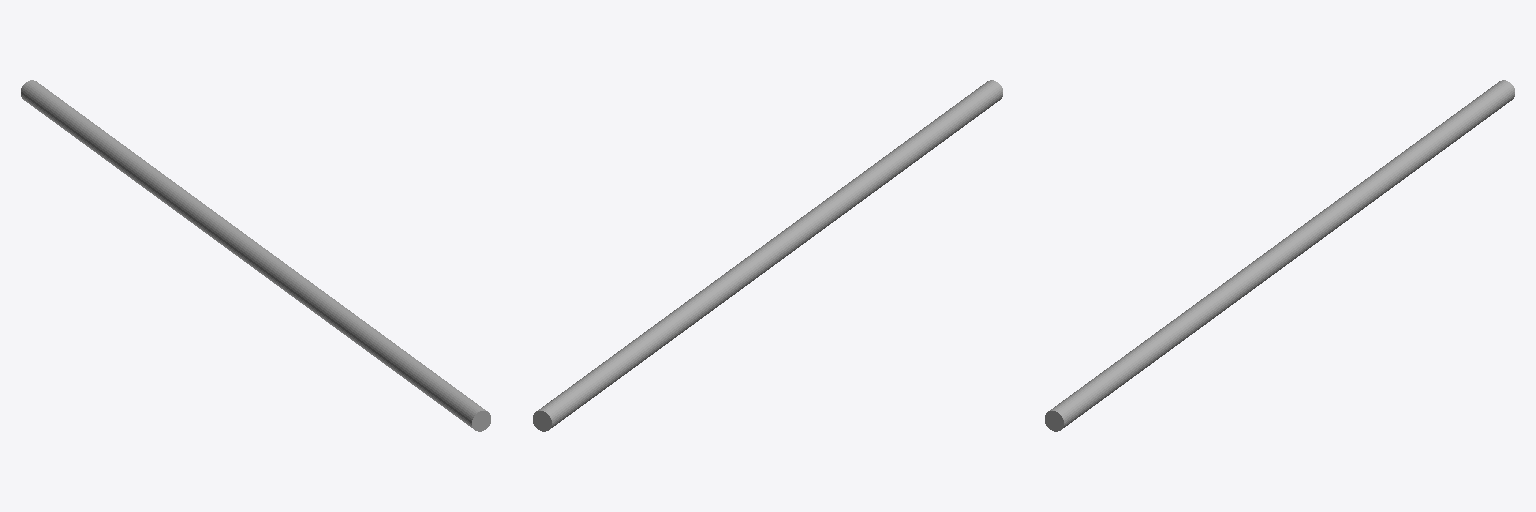
The robot description file, URDF, robot "panda":
<?xml version='1.0' encoding='utf-8'?>
<robot name="panda">

    <link name="link0">
      <inertial>
        <origin xyz="0 0 0.05" rpy="0 0 0" />
        <mass value="4" />
        <inertia ixx="0.4" iyy="0.4" izz="0.4" ixy="0" ixz="0" iyz="0" />
      </inertial>
      <visual>
        <geometry>
          <mesh filename="../../../Model/meshes/visual/link0.obj"/>
        </geometry>
      </visual>
<!--       <collision>
        <geometry>
          <mesh filename="../../../Model/meshes/collision/link0.obj"/>
        </geometry>
      </collision> -->
    </link>
    <link name="link1">
      <inertial>
        <origin xyz="0 0 -0.07" rpy="0 -0 0" />
        <mass value="3" />
        <inertia ixx="0.3" iyy="0.3" izz="0.3" ixy="0" ixz="0" iyz="0" />
      </inertial>
      <visual>
        <geometry>
          <mesh filename="../../../Model/meshes/visual/link1.obj"/>
        </geometry>
      </visual>
      <!-- <collision>
        <geometry>
          <mesh filename="../../../Model/meshes/collision/link1.obj"/>
        </geometry>
      </collision> -->
    </link>
    <link name="link2">
      <inertial>
        <origin xyz="0 -0.1 0" rpy="0 -0 0" />
        <mass value="3" />
        <inertia ixx="0.3" iyy="0.3" izz="0.3" ixy="0" ixz="0" iyz="0" />
      </inertial>
      <visual>
        <geometry>
          <mesh filename="../../../Model/meshes/visual/link2.obj"/>
        </geometry>
      </visual>
      <!-- <collision>
        <geometry>
          <mesh filename="../../../Model/meshes/collision/link2.obj"/>
        </geometry>
      </collision> -->
    </link>
    <link name="link3">
      <inertial>
        <origin xyz="0.04 0 -0.05" rpy="0 -0 0" />
        <mass value="2" />
        <inertia ixx="0.2" iyy="0.2" izz="0.2" ixy="0" ixz="0" iyz="0" />
      </inertial>
      <visual>
        <geometry>
          <mesh filename="../../../Model/meshes/visual/link3.obj"/>
        </geometry>
      </visual>
      <!-- <collision>
        <geometry>
          <mesh filename="../../../Model/meshes/collision/link3.obj"/>
        </geometry>
      </collision> -->
    </link>
    <link name="link4">
      <inertial>
        <origin xyz="-0.04 0.05 0" rpy="0 -0 0" />
        <mass value="2" />
        <inertia ixx="0.2" iyy="0.2" izz="0.2" ixy="0" ixz="0" iyz="0" />
      </inertial>
      <visual>
        <geometry>
          <mesh filename="../../../Model/meshes/visual/link4.obj"/>
        </geometry>
      </visual>
<!--       <collision>
        <geometry>
          <mesh filename="../../../Model/meshes/collision/link4.obj"/>
        </geometry>
      </collision> -->
    </link>
    <link name="link5">
      <inertial>
        <origin xyz="0 0 -0.15" rpy="0 -0 0" />
        <mass value="2" />
        <inertia ixx="0.2" iyy="0.2" izz="0.2" ixy="0" ixz="0" iyz="0" />
      </inertial>
      <visual>
        <geometry>
          <mesh filename="../../../Model/meshes/visual/link5.obj"/>
        </geometry>
      </visual>
<!--       <collision>
        <geometry>
          <mesh filename="../../../Model/meshes/collision/link5.obj"/>
        </geometry>
      </collision> -->
    </link>
    <link name="link6">
      <inertial>
        <origin xyz="0.06 0 0" rpy="0 -0 0" />
        <mass value="1.5" />
        <inertia ixx="0.1" iyy="0.1" izz="0.1" ixy="0" ixz="0" iyz="0" />
      </inertial>
      <visual>
        <geometry>
          <mesh filename="../../../Model/meshes/visual/link6.obj"/>
        </geometry>
      </visual>
      <!-- <collision>
        <geometry>
          <mesh filename="../../../Model/meshes/collision/link6.obj"/>
        </geometry>
      </collision> -->
    </link>
    <link name="link7">
      <inertial>
        <origin xyz="0 0 0.17" rpy="0 -0 0" />
        <mass value="1.8" />
        <inertia ixx="0.09" iyy="0.05" izz="0.07" ixy="0" ixz="0" iyz="0" />
      </inertial>
      <visual>
        <geometry>
          <mesh filename="../../../Model/meshes/visual/link7.obj"/>
        </geometry>
      </visual>
       <visual>
        <origin xyz="0 0 0.11" rpy="1.5708 -0 0" />
        <geometry>
          <cylinder length="0.4" radius="0.005"/>
        </geometry>
      </visual>   
       <collision>
        <origin xyz="0 0 0.11" rpy="1.5708 -0 0" />
        <geometry>
          <cylinder length="0.4" radius="0.005"/>
        </geometry>
      </collision> 
      <!-- <collision>
        <geometry>
          <mesh filename="../../../Model/meshes/collision/link7.obj"/>
        </geometry>
      </collision> -->
    </link>
    <joint name="joint1" type="revolute">
      <safety_controller k_position="100.0" k_velocity="40.0" soft_lower_limit="-2.8973" soft_upper_limit="2.8973"/>
      <origin rpy="0 0 0" xyz="0 0 0.333"/>
      <parent link="link0"/>
      <child link="link1"/>
      <axis xyz="0 0 1"/>
      <limit effort="87" lower="-2.8973" upper="2.8973" velocity="2.1750"/>
    </joint>
    <joint name="joint2" type="revolute">
      <safety_controller k_position="100.0" k_velocity="40.0" soft_lower_limit="-1.7628" soft_upper_limit="1.7628"/>
      <origin rpy="-1.57079632679 0 0" xyz="0 0 0"/>
      <parent link="link1"/>
      <child link="link2"/>
      <axis xyz="0 0 1"/>
      <calibration falling="-45.0" />
      <limit effort="87" lower="-1.7628" upper="1.7628" velocity="2.1750"/>
    </joint>
    <joint name="joint3" type="revolute">
      <safety_controller k_position="100.0" k_velocity="40.0" soft_lower_limit="-2.8973" soft_upper_limit="2.8973"/>
      <origin rpy="1.57079632679 0 0" xyz="0 -0.316 0"/>
      <parent link="link2"/>
      <child link="link3"/>
      <axis xyz="0 0 1"/>
      <limit effort="87" lower="-2.8973" upper="2.8973" velocity="2.1750"/>
    </joint>
    <joint name="joint4" type="revolute">
      <safety_controller k_position="100.0" k_velocity="40.0" soft_lower_limit="-3.0718" soft_upper_limit="-0.0698"/>
      <origin rpy="1.57079632679 0 0" xyz="0.0825 0 0"/>
      <parent link="link3"/>
      <child link="link4"/>
      <axis xyz="0 0 1"/>
      <calibration falling="-125.0" />
      <limit effort="87" lower="-3.0718" upper="-0.0698" velocity="2.1750"/>
    </joint>
    <joint name="joint5" type="revolute">
      <safety_controller k_position="100.0" k_velocity="40.0" soft_lower_limit="-2.8973" soft_upper_limit="2.8973"/>
      <origin rpy="-1.57079632679 0 0" xyz="-0.0825 0.384 0"/>
      <parent link="link4"/>
      <child link="link5"/>
      <axis xyz="0 0 1"/>
      <limit effort="12" lower="-2.8973" upper="2.8973" velocity="2.6100"/>
    </joint>
    <joint name="joint6" type="revolute">
      <safety_controller k_position="100.0" k_velocity="40.0" soft_lower_limit="-0.0175" soft_upper_limit="3.7525"/>
      <origin rpy="1.57079632679 0 0" xyz="0 0 0"/>
      <parent link="link5"/>
      <child link="link6"/>
      <axis xyz="0 0 1"/>
      <calibration falling="80.0" />
      <limit effort="12" lower="-0.0175" upper="3.7525" velocity="2.6100"/>
    </joint>
    <joint name="joint7" type="revolute">
      <safety_controller k_position="100.0" k_velocity="40.0" soft_lower_limit="-2.8973" soft_upper_limit="2.8973"/>
      <origin rpy="1.57079632679 0 0" xyz="0.088 0 0"/>
      <parent link="link6"/>
      <child link="link7"/>
      <axis xyz="0 0 1"/>
      <limit effort="12" lower="-2.8973" upper="2.8973" velocity="2.6100"/>
    </joint>
</robot>

--- Render facts (derived) ---
The picture shows the robot from 3 angles, left to right: view 1: azimuth 30°, elevation 25°; view 2: azimuth 150°, elevation 25°; view 3: azimuth 330°, elevation 25°; orthographic projection.
Model panda with 8 links and 7 joints (7 revolute), rooted at link0, posed joints at zero except 1 at the middle of their limits (joint4 = -1.57).
Visible links, largest first — view 1: link7; view 2: link7; view 3: link7.
Link boxes in pixels (x1,y1,x2,y2): link7: (21,80,490,431); link7: (533,80,1002,431); link7: (1045,80,1514,431).
Bounding box of the posed robot: 0.01 × 0.4 × 0.01 m (x, y, z).
Geometry: only primitive shapes (box / cylinder / sphere) drawn; not drawn: 8 mesh visuals (reference in a form the renderer does not follow).